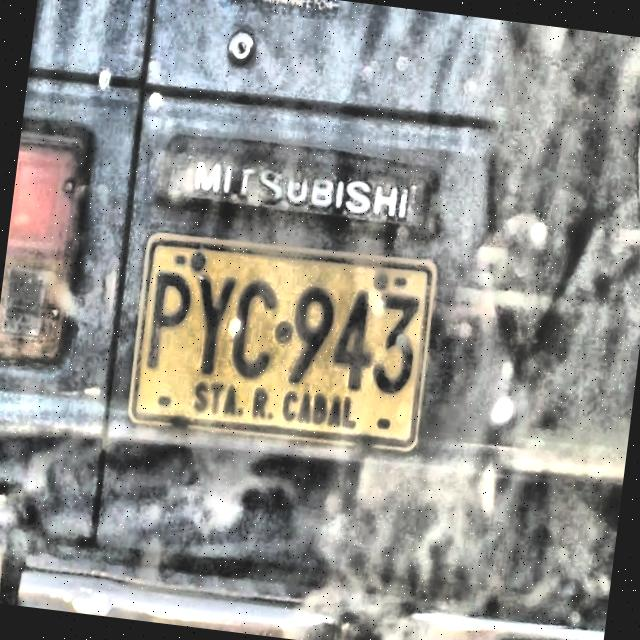3: (367, 289, 423, 398)
4: (328, 286, 382, 394)
9: (285, 282, 339, 389)
C: (226, 275, 282, 385)
P: (144, 268, 196, 372)
Y: (182, 272, 240, 381)
